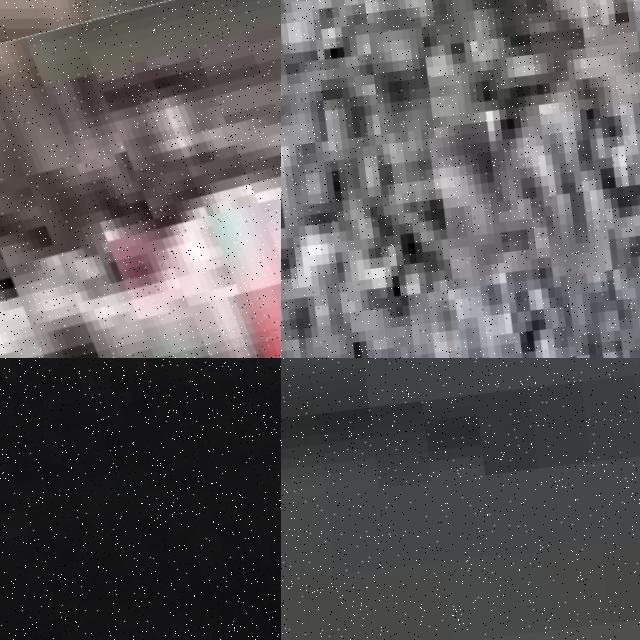0: (0, 0, 281, 358)
drone: (0, 358, 281, 640)
